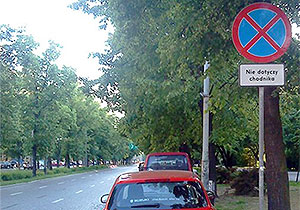no_stopping_sign: (231, 2, 293, 63)
